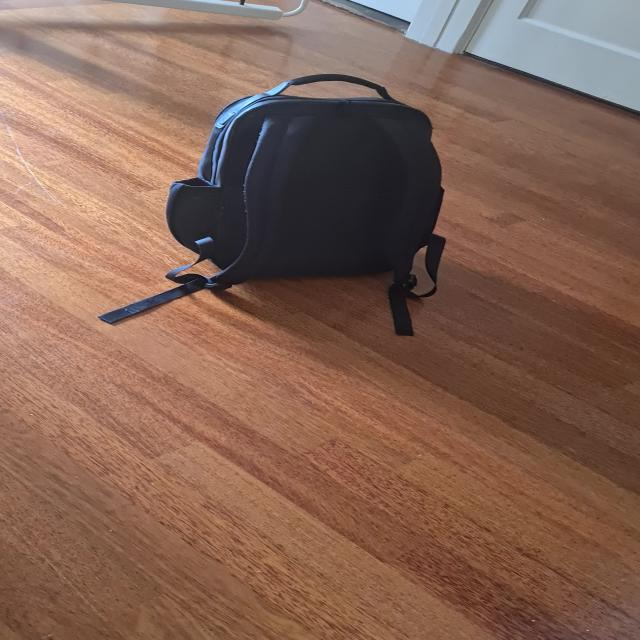backpack: (157, 66, 451, 289)
